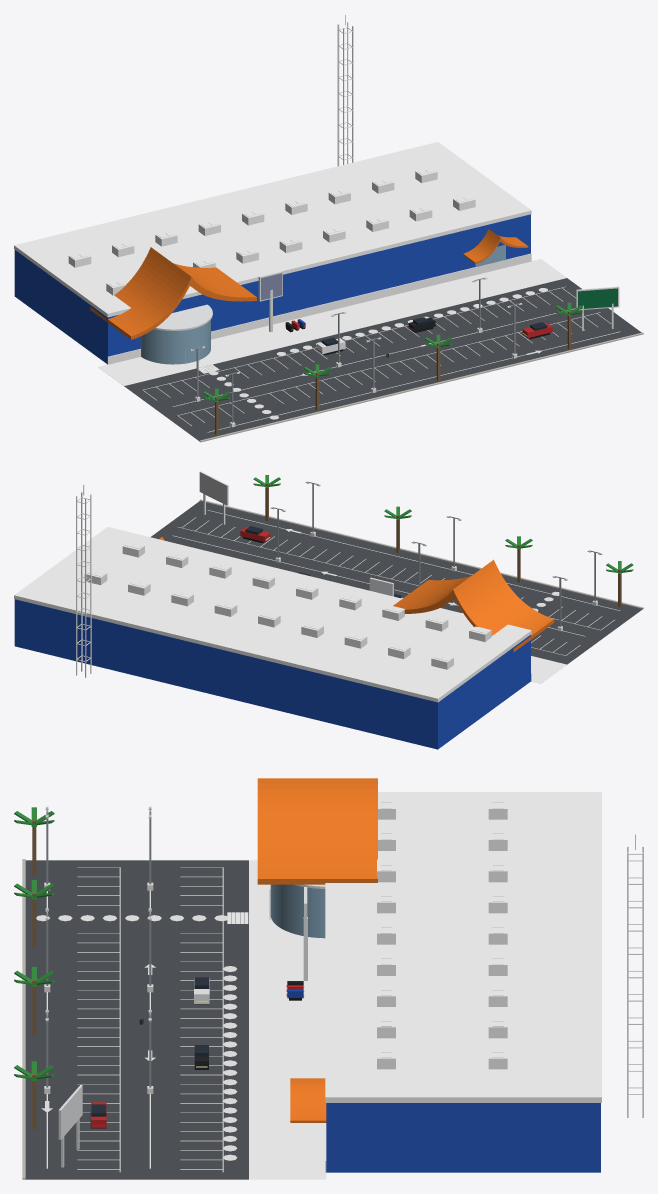
File: marcory-capsud.glb
3 renders of one model, top to bottom at view 1: azimuth 30°, elevation 25°; view 2: azimuth 150°, elevation 25°; view 3: azimuth 270°, elevation 25°, orthographic. The views are drawn at different scales.
Bounding box in the file's own units: 88 × 36 × 73.36.
